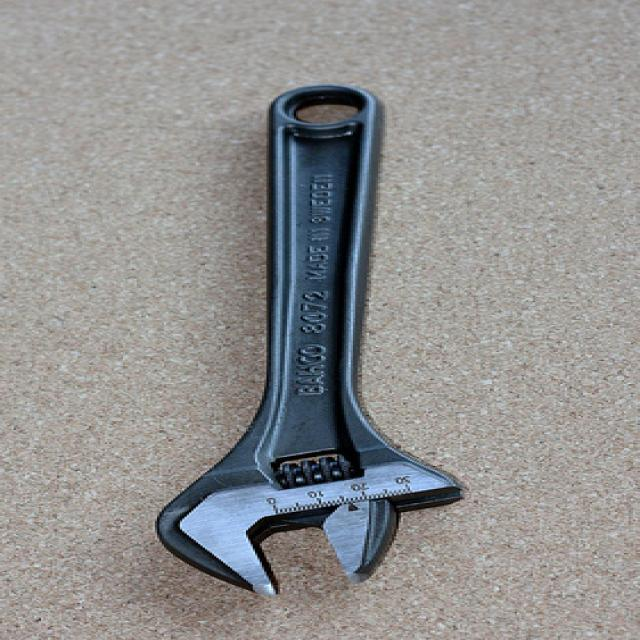wrench: (133, 70, 516, 640)
